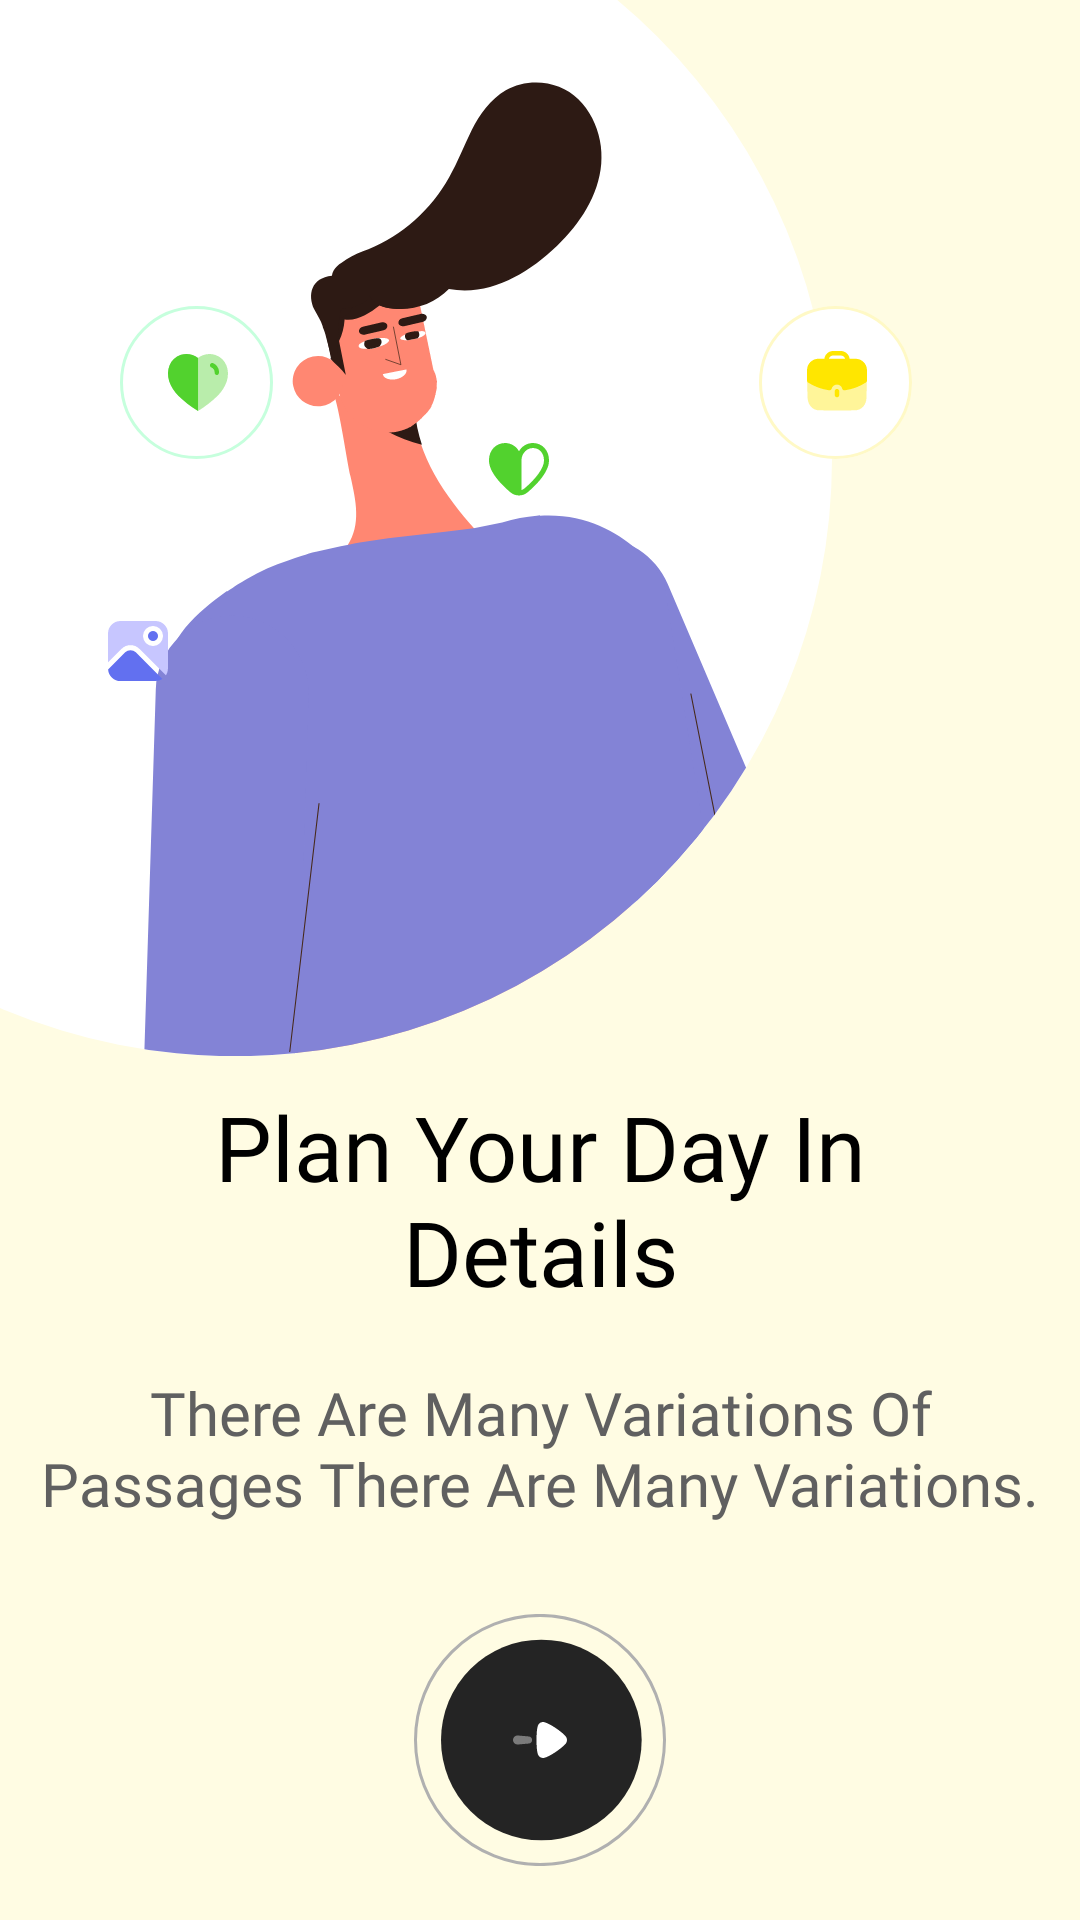

Named icons in this screenshot (1080*1920) and their centers, (x,y):
corazon: (519,469)
